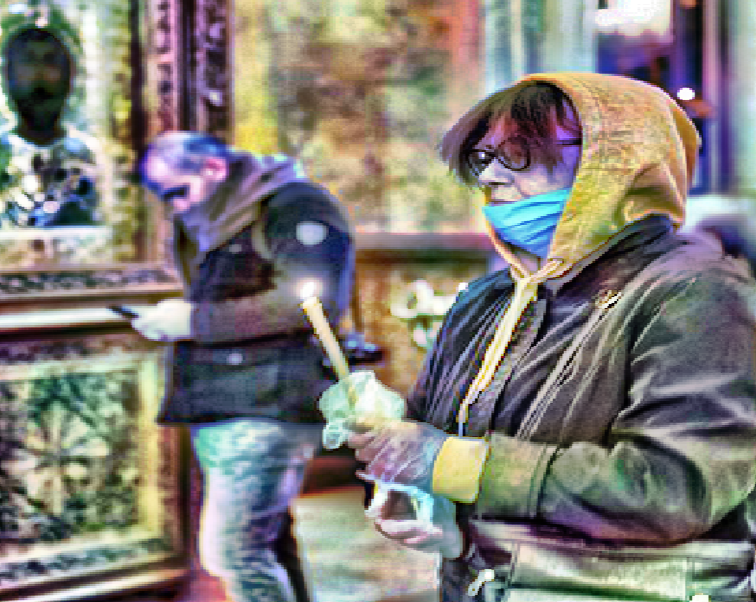mask_weared_incorrect: (461, 72, 693, 257)
